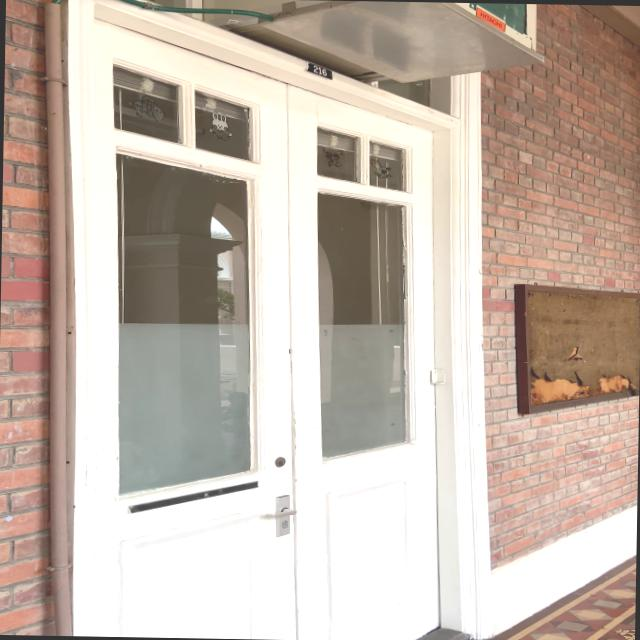room216: (302, 60, 334, 80)
